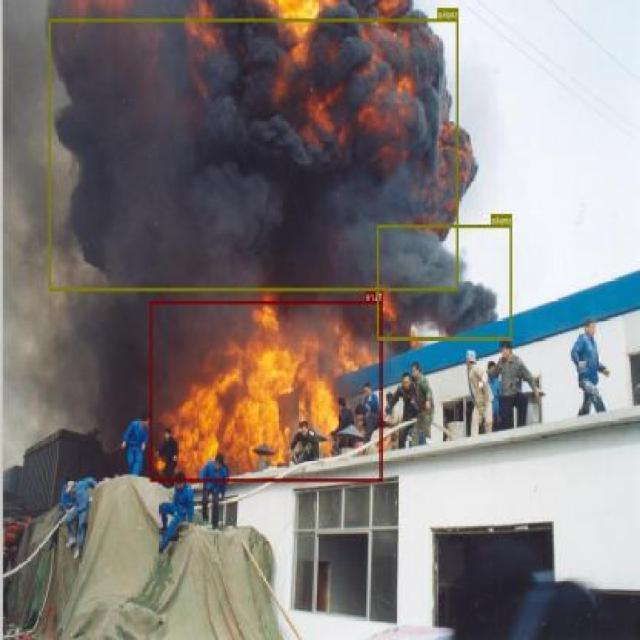Fire: (150, 300, 384, 482)
Smoke: (49, 18, 458, 290), (378, 223, 512, 339)
